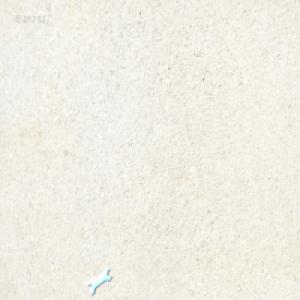Wrench: (90, 267, 115, 295)
